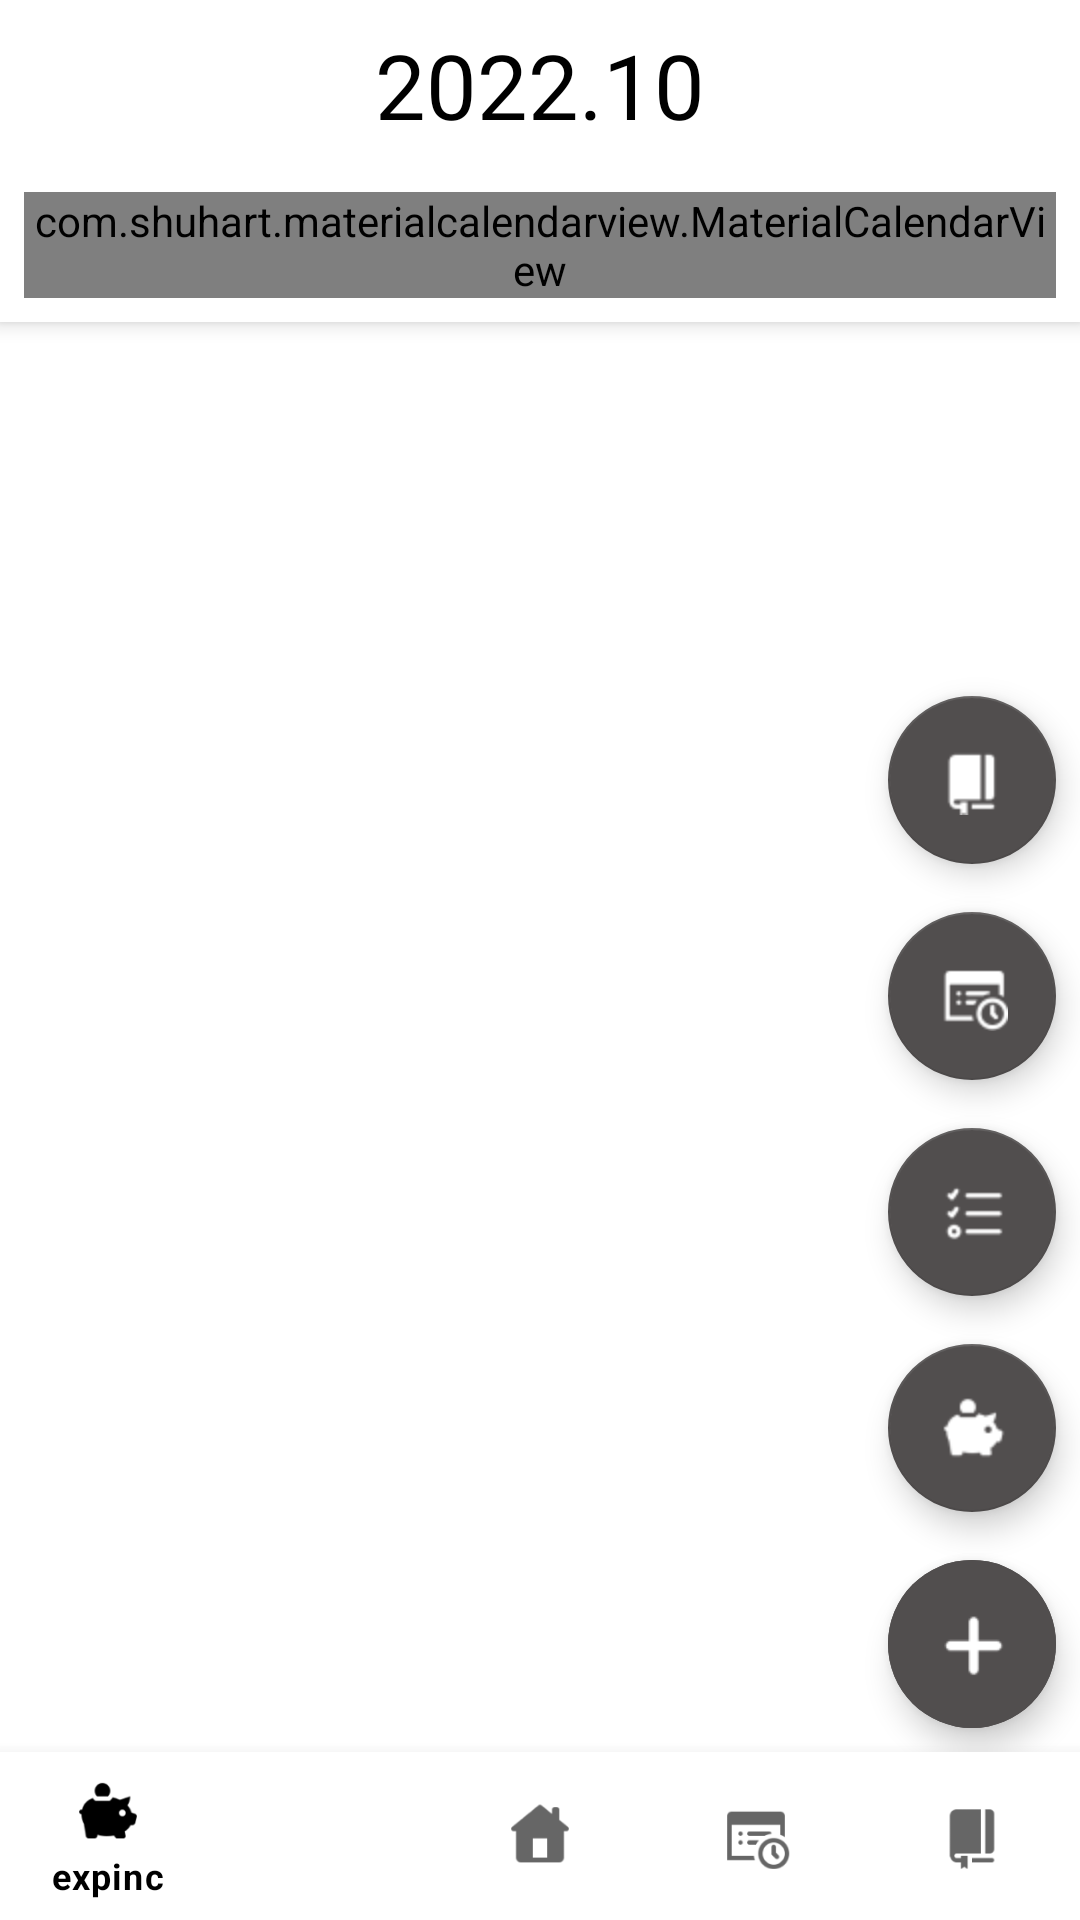

Where icons sit on this 1080*1920 app screen, as (x1, y1, x2, y2):
add: (888, 1560, 1056, 1728)
Diary: (888, 696, 1056, 864)
Schedule: (888, 912, 1056, 1080)
todo: (888, 1128, 1056, 1296)
